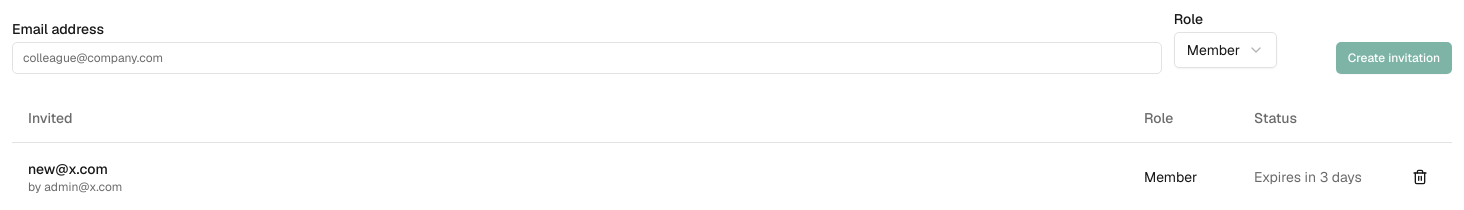
Test case: OrganizationInvitesSection › removes a revoked invitation from the list
This screenshot has width=1464, height=210.
Expected: the text "new@x.com" is shown, [28,160,108,178]
Click the button named "Withdraw invitation to new@x.com" at (1420,176), box [1404,160,1436,192]
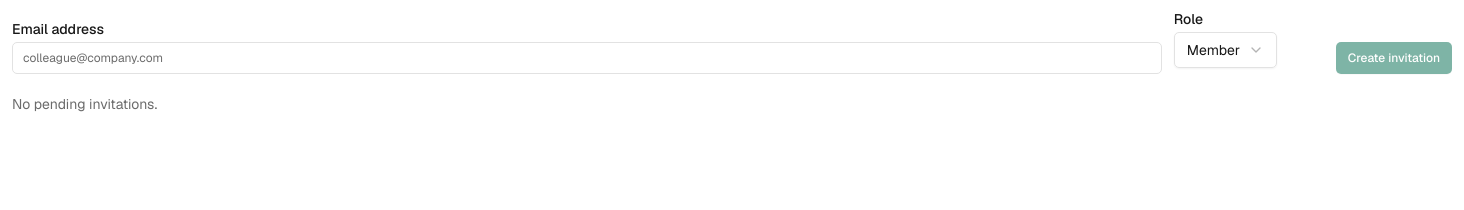
Now the text "new@x.com" is gone
